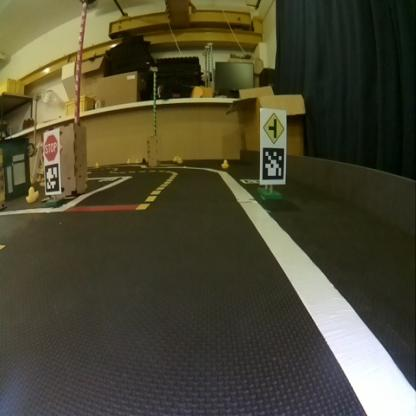Duckie: (25, 187, 38, 202), (220, 159, 228, 167), (177, 157, 182, 165), (173, 154, 178, 162)
Intersection sign: (260, 111, 285, 143)
QR code: (260, 146, 285, 183), (44, 164, 60, 192)
Stop sign: (44, 130, 59, 161)
